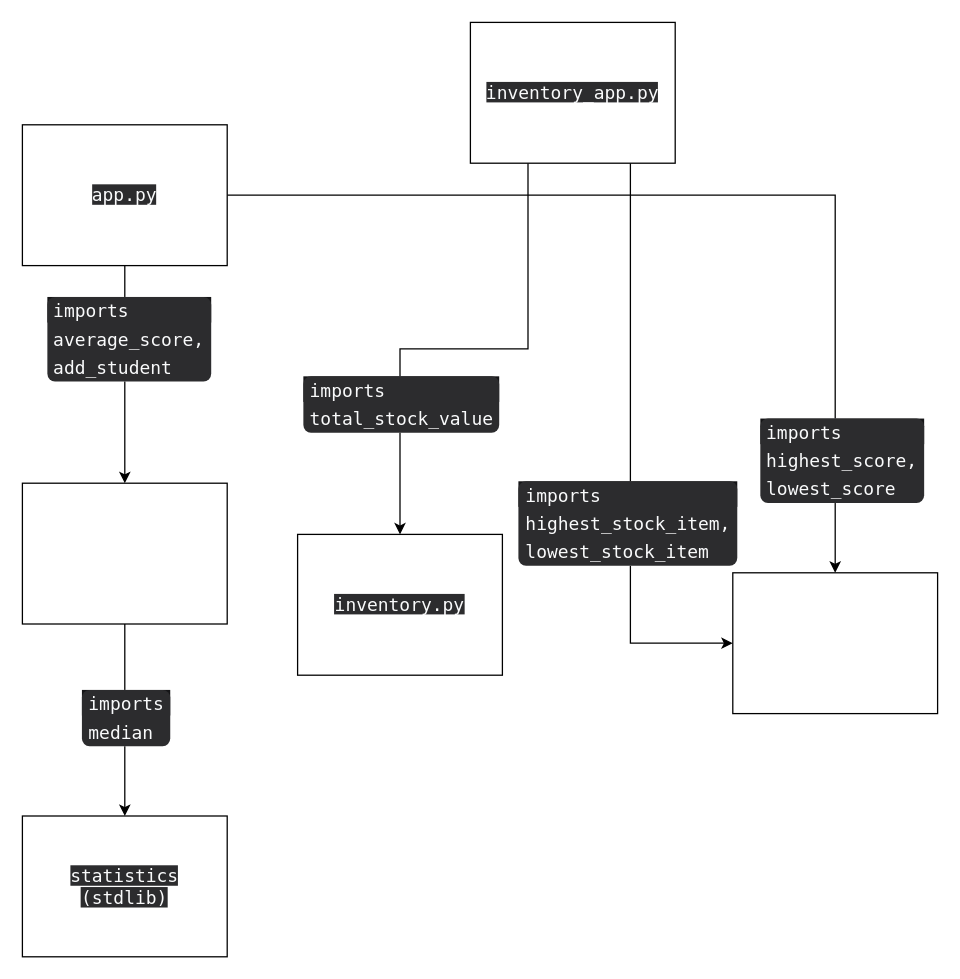
The diagram is 960 pixels wide and 979 high, and some of its shapes have lost their labels. The shapes that lost their labels are listed below. From the top down, each one's centre as x and y in pixels, then its label:
At pixel 124 553: "students.py".
At pixel 835 643: "utils/helpers.py".
